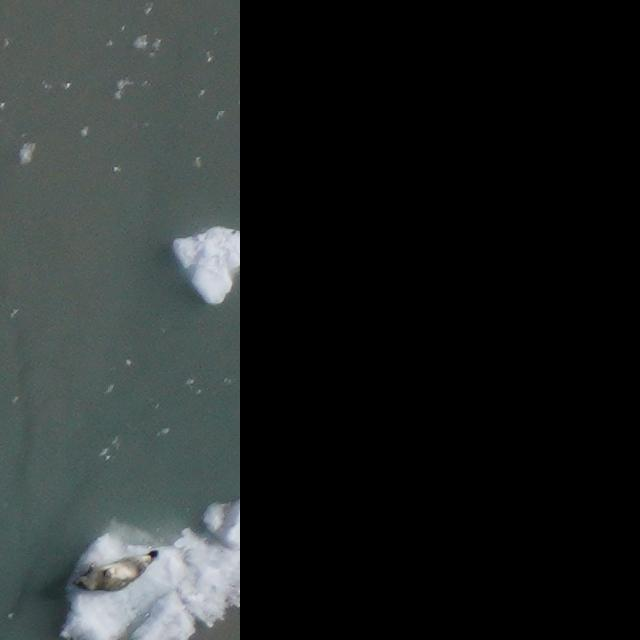seal: (67, 549, 163, 597)
